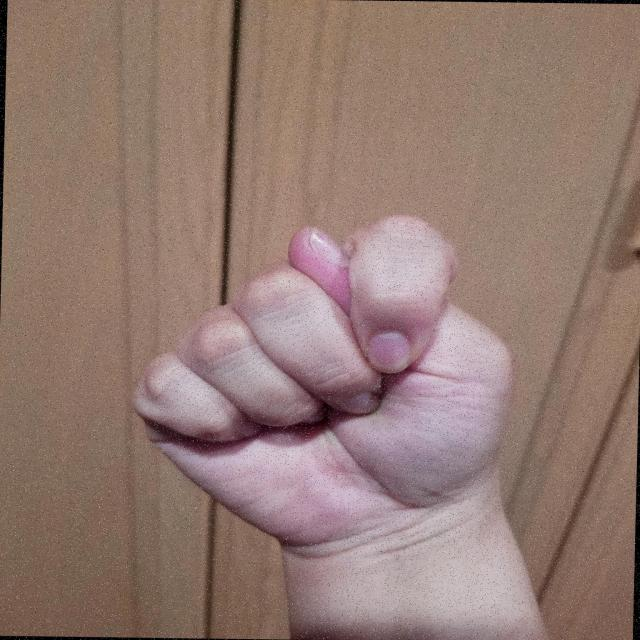T: (115, 206, 530, 560)
